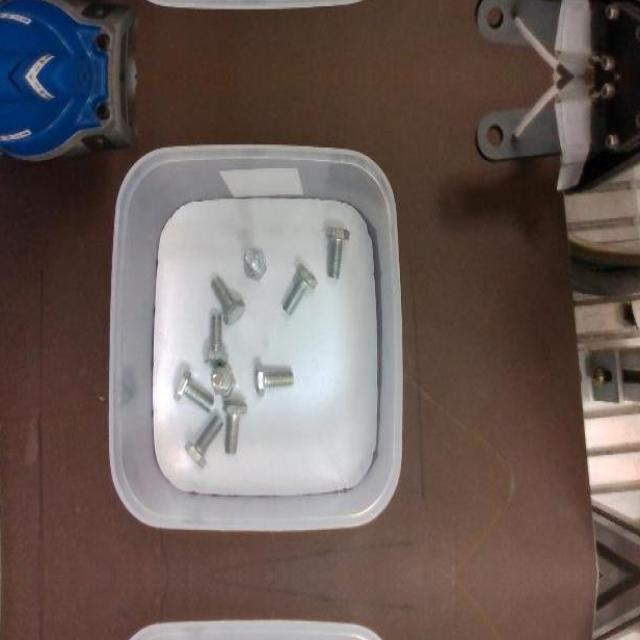screw: (185, 414, 224, 468), (284, 263, 319, 314), (174, 369, 214, 413), (211, 275, 245, 324), (204, 313, 230, 365), (325, 226, 350, 279), (224, 398, 248, 453), (256, 364, 294, 397), (212, 366, 237, 397), (243, 248, 267, 280)
